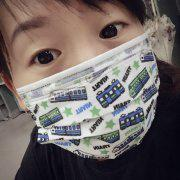OK: (11, 5, 159, 153)
